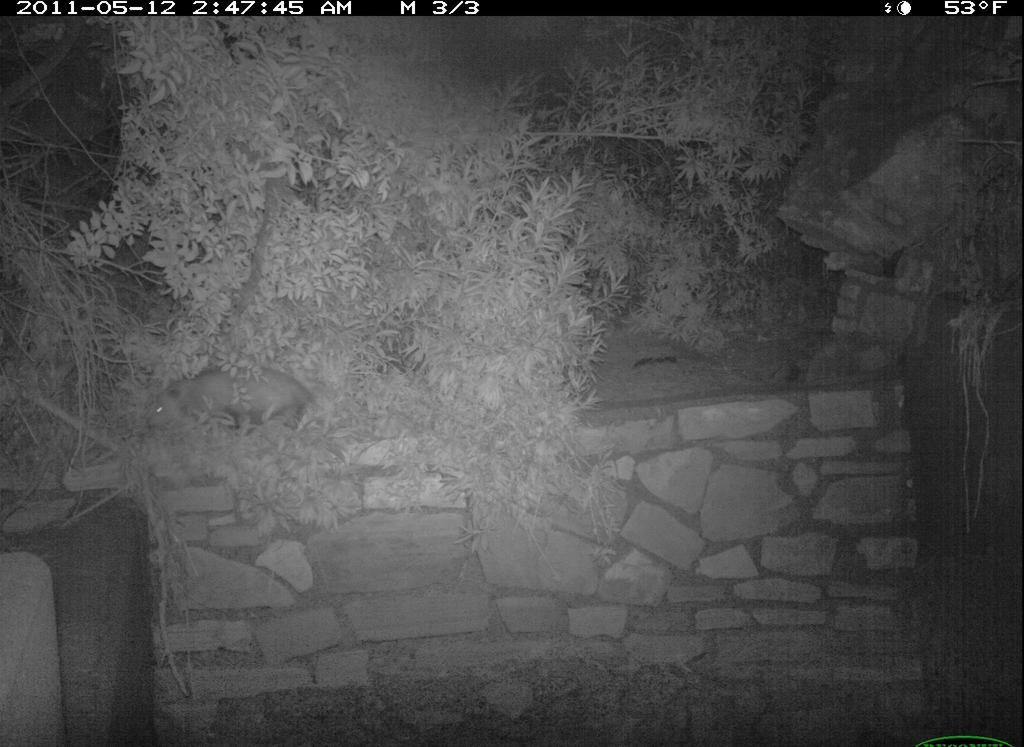opossum: (139, 359, 340, 447)
